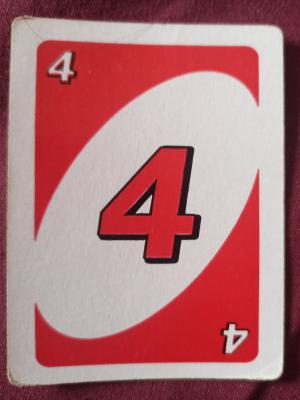num_4: (44, 48, 86, 92)
